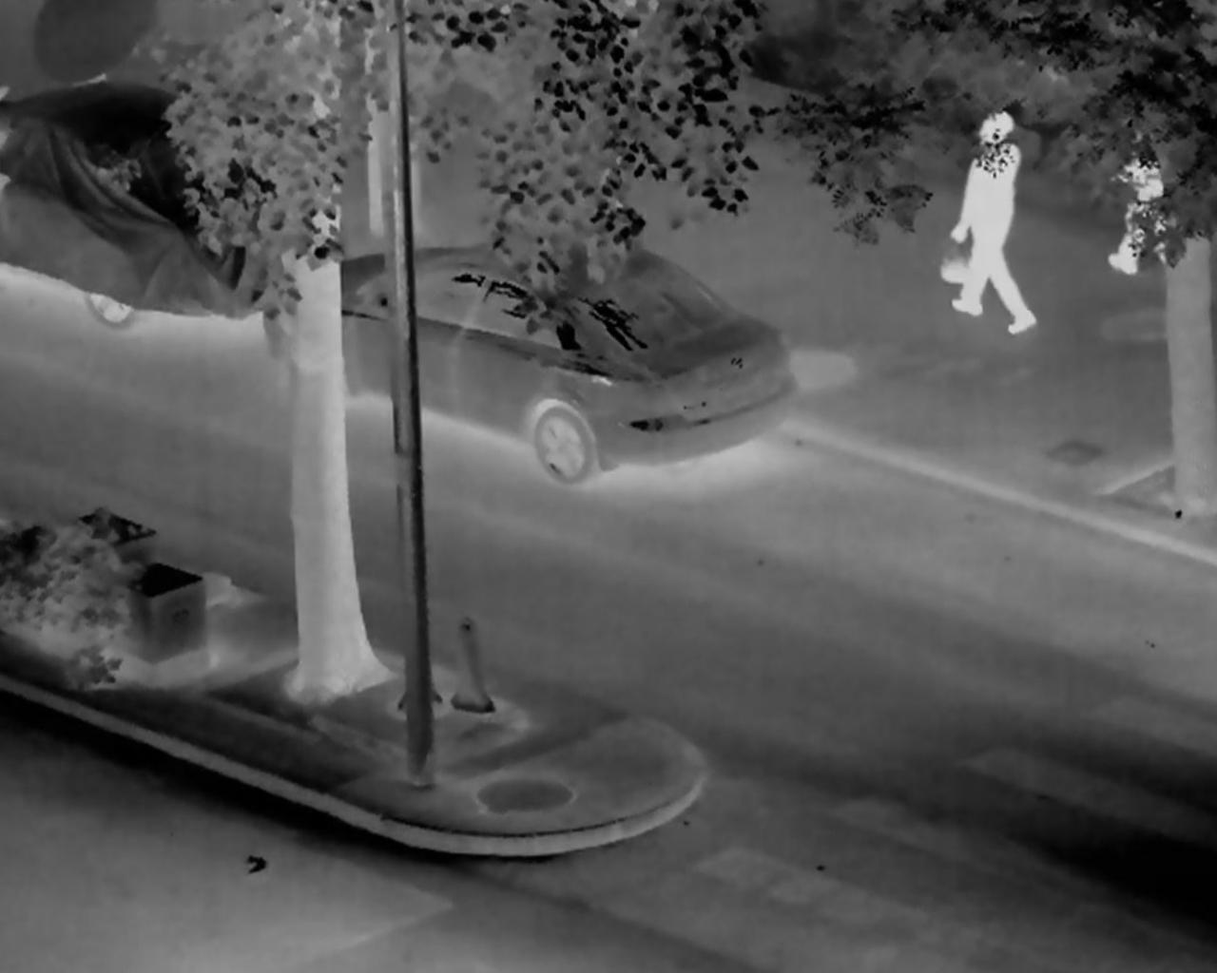person: (947, 106, 1037, 339), (1108, 85, 1182, 275)
